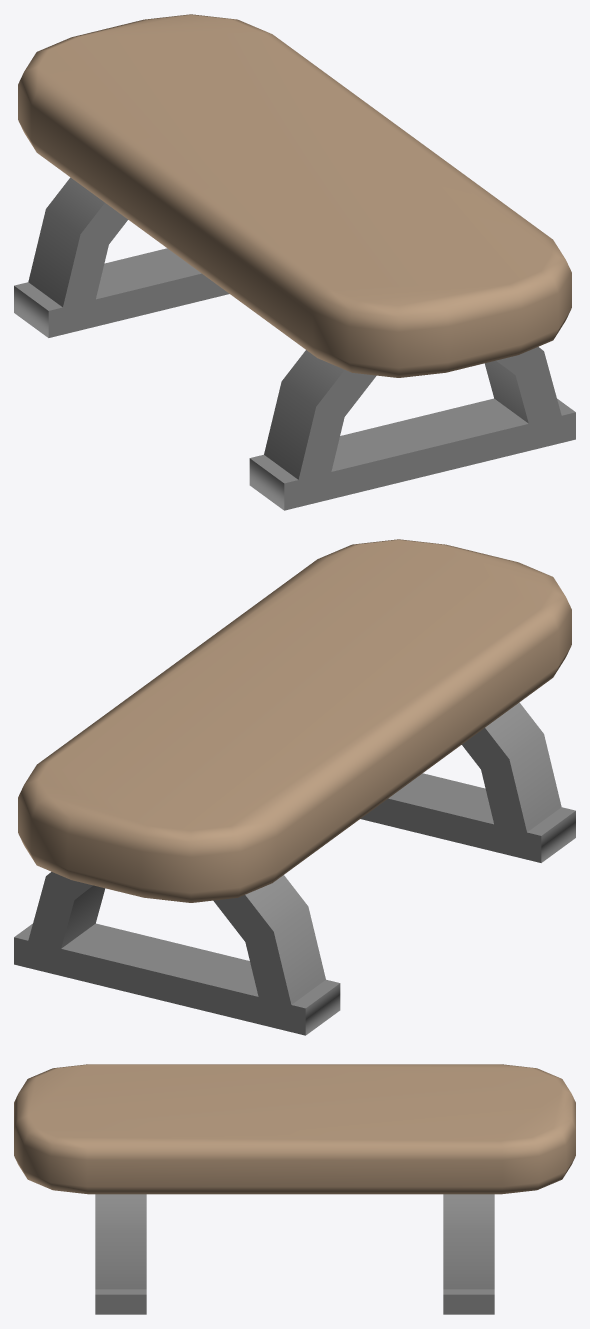
Rendered from smallBench.fbx.
3 renders of one model, top to bottom at view 1: azimuth 30°, elevation 25°; view 2: azimuth 150°, elevation 25°; view 3: azimuth 270°, elevation 25°, orthographic. The views are drawn at different scales.
Parts seen in each view (by area): view 1: smallBench; view 2: smallBench; view 3: smallBench.
Boxes of the visible parts, <box> form: smallBench: <box>14,14,575,510</box>; smallBench: <box>14,539,575,1035</box>; smallBench: <box>14,1064,575,1314</box>.
Size of the model in its own units: 50.36 by 35.59 by 114.
